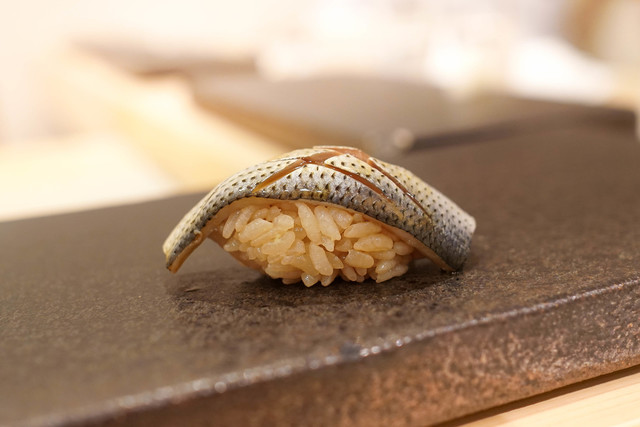spotted-shad: (160, 141, 478, 299)
